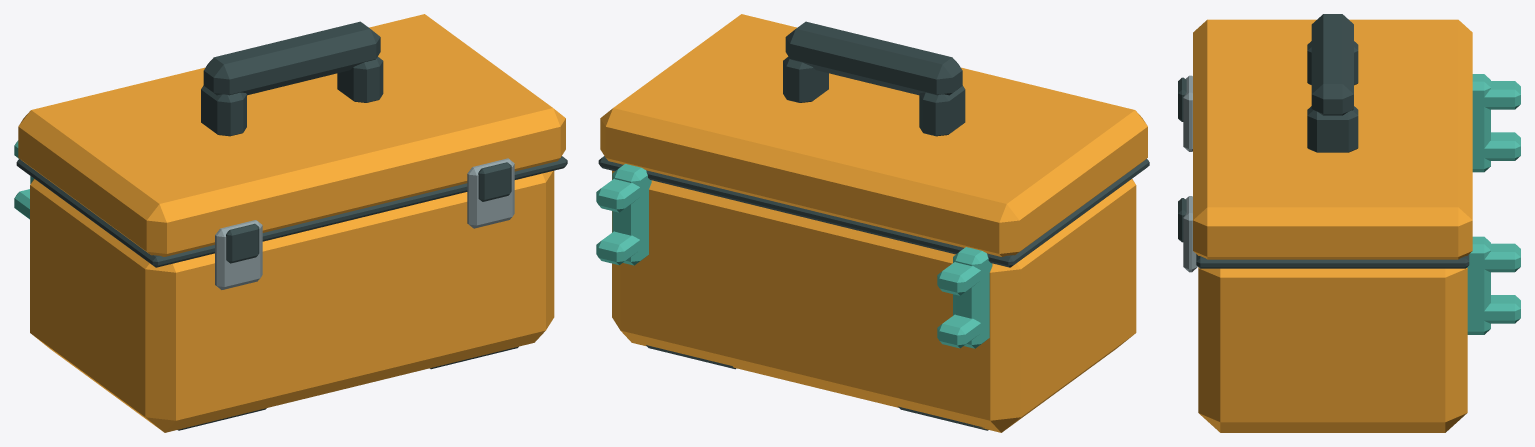
Rendered from Tools-Toolbox.fbx.
3 renders of one model, left to right at view 1: azimuth 30°, elevation 25°; view 2: azimuth 150°, elevation 25°; view 3: azimuth 270°, elevation 25°, orthographic. The views are drawn at different scales.
Parts seen in each view (by area): view 1: Toolbox Base, Closed Lid, Carry Handle, Seam, Latch Plate.001, Latch Plate, Handle Foot, Handle Foot.001, Latch Tab, Latch Tab.001; view 2: Toolbox Base, Closed Lid, Carry Handle, Seam, Mop Dock Backplate, Mop Dock Backplate.001, Handle Foot, Handle Foot.001, Dock Clip.002, Dock Clip.003, Dock Clip, Dock Clip.001; view 3: Closed Lid, Toolbox Base, Carry Handle, Seam, Handle Foot.001, Mop Dock Backplate.001, Mop Dock Backplate, Dock Clip.003, Dock Clip, Dock Clip.002, Dock Clip.001, Latch Plate.001 (+2 smaller).
Part boxes in pixels (bbox=[...]): Toolbox Base: bbox=[30, 170, 554, 432]; Closed Lid: bbox=[18, 14, 565, 256]; Carry Handle: bbox=[203, 21, 380, 95]; Seam: bbox=[16, 156, 567, 267]; Latch Plate.001: bbox=[467, 158, 514, 228]; Latch Plate: bbox=[215, 220, 262, 289]; Handle Foot: bbox=[201, 85, 246, 136]; Handle Foot.001: bbox=[337, 56, 383, 102]; Latch Tab: bbox=[226, 223, 259, 263]; Latch Tab.001: bbox=[478, 162, 511, 201]; Toolbox Base: bbox=[612, 170, 1136, 432]; Closed Lid: bbox=[600, 14, 1147, 256]; Carry Handle: bbox=[785, 21, 962, 95]; Seam: bbox=[598, 156, 1149, 267]; Mop Dock Backplate: bbox=[953, 247, 992, 348]; Mop Dock Backplate.001: bbox=[612, 164, 651, 265]; Handle Foot: bbox=[919, 85, 965, 136]; Handle Foot.001: bbox=[783, 56, 828, 102]; Dock Clip.002: bbox=[596, 231, 643, 265]; Dock Clip.003: bbox=[596, 178, 643, 212]; Dock Clip: bbox=[937, 314, 984, 348]; Dock Clip.001: bbox=[937, 262, 983, 295]; Closed Lid: bbox=[1193, 19, 1472, 259]; Toolbox Base: bbox=[1198, 267, 1467, 432]; Carry Handle: bbox=[1311, 14, 1353, 115]; Seam: bbox=[1196, 254, 1469, 268]; Handle Foot.001: bbox=[1307, 106, 1358, 152]; Mop Dock Backplate.001: bbox=[1467, 236, 1490, 334]; Mop Dock Backplate: bbox=[1472, 74, 1490, 172]; Dock Clip.003: bbox=[1477, 243, 1520, 272]; Dock Clip: bbox=[1477, 132, 1520, 160]; Dock Clip.002: bbox=[1477, 295, 1520, 323]; Dock Clip.001: bbox=[1477, 81, 1520, 109]; Latch Plate.001: bbox=[1183, 196, 1197, 272].
Size of the model in its own units: 0.492 by 0.3425 by 0.3565.
